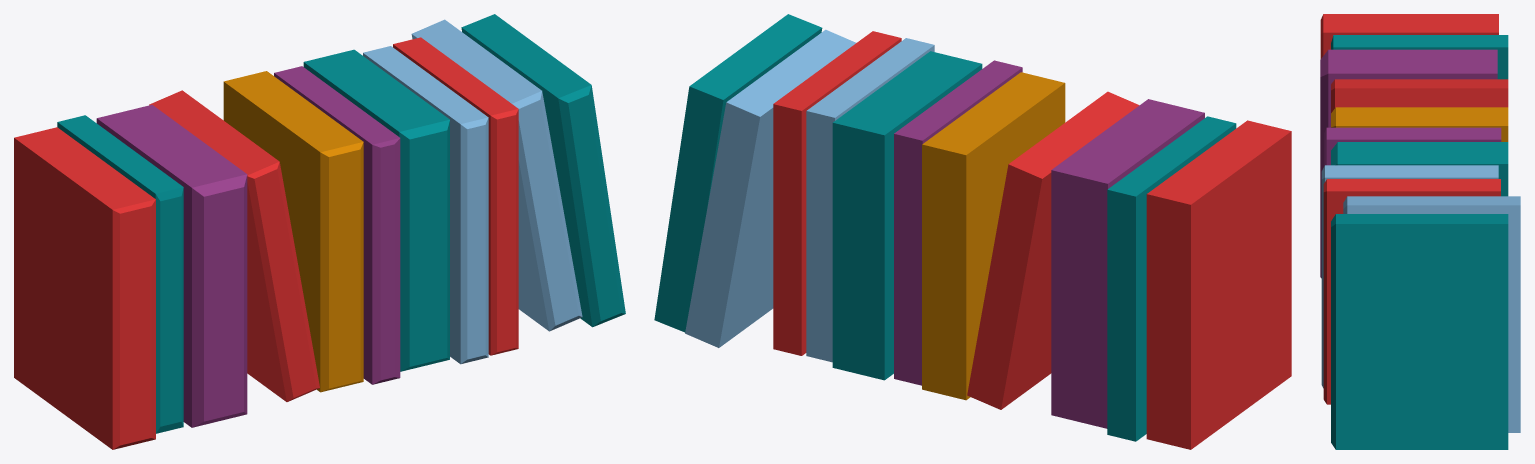
The model's file is Cookbooks.fbx.
3 views of the same model, side by side, from view 1: azimuth 30°, elevation 25°; view 2: azimuth 150°, elevation 25°; view 3: azimuth 270°, elevation 25° (orthographic). The views are drawn at different scales.
Visible parts, largest first — view 1: books; view 2: books; view 3: books.
Boxes of the visible parts, <box> form: books: <box>14,14,625,449</box>; books: <box>654,14,1291,449</box>; books: <box>1320,14,1520,449</box>.
Size of the model in its own units: 60.57 by 22.67 by 27.
